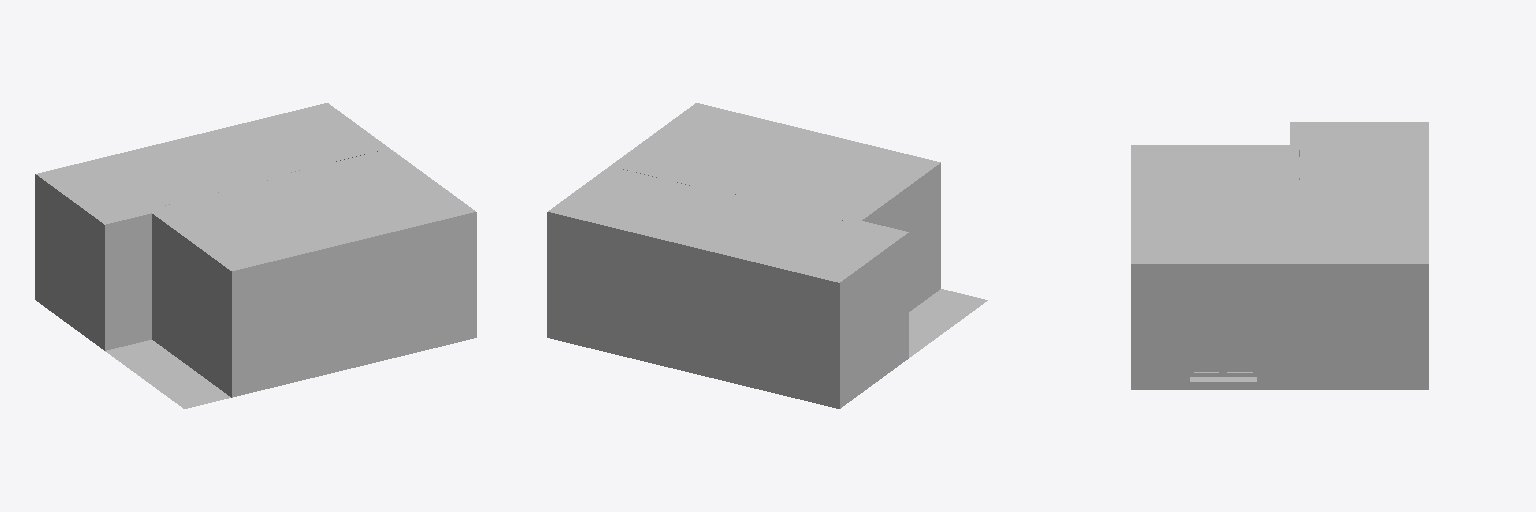
3 views of the same model, side by side, from view 1: azimuth 30°, elevation 25°; view 2: azimuth 150°, elevation 25°; view 3: azimuth 270°, elevation 25° (orthographic).
Visible parts, largest first — view 1: wall_3_19; view 2: wall_3_19; view 3: wall_3_19.
Boxes of the visible parts, x1=… form: wall_3_19: x1=35, y1=103, x2=476, y2=408; wall_3_19: x1=547, y1=103, x2=987, y2=408; wall_3_19: x1=1131, y1=122, x2=1428, y2=389.
Bounding box in the file's own units: 29.18 × 12.05 × 25.76.